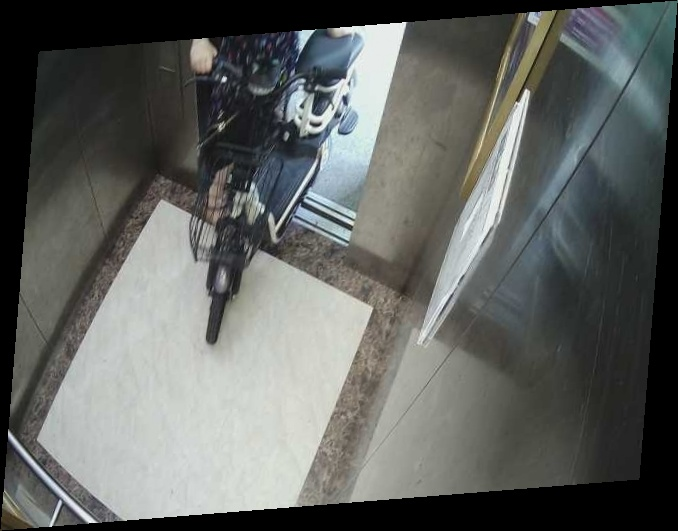electromobile: (174, 35, 375, 346)
